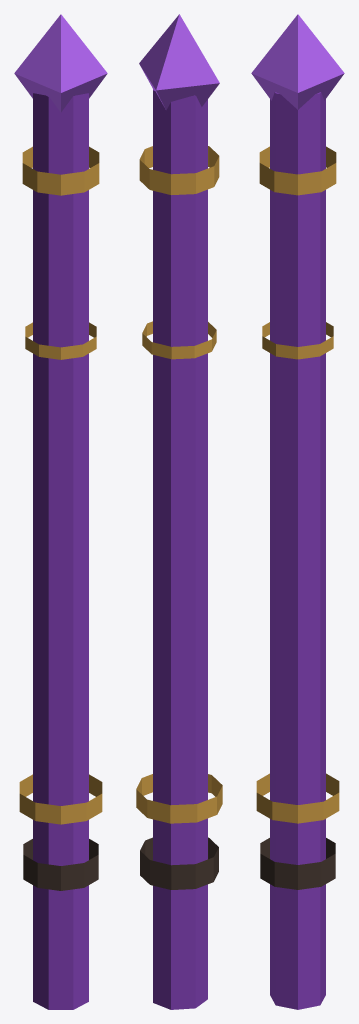
The model's file is custom_broom_cabo_magic.obj.
The picture shows the model from 3 angles, left to right: view 1: azimuth 90°, elevation 25°; view 2: azimuth 150°, elevation 25°; view 3: azimuth 270°, elevation 25°; orthographic projection.
Bounding box in the file's own units: 0.17 × 1.97 × 0.17.
